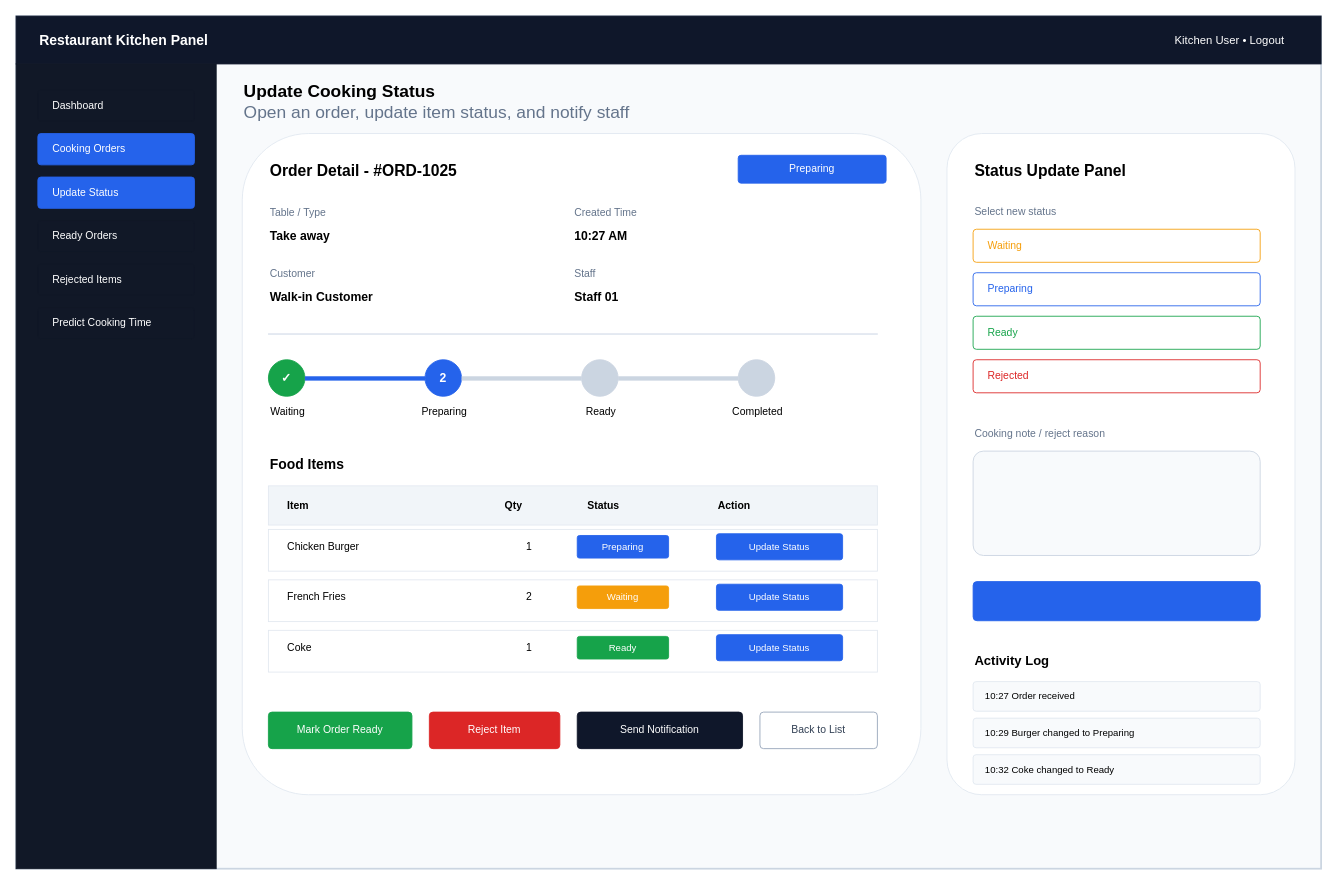
The diagram is 1336 pixels wide and 884 high, and some of its shapes have lost their labels. Each missing label, with the centre of its shape:
Example: Burger needs 5 more minutes.: (x=1116, y=502)
Save Status: (x=1116, y=601)
